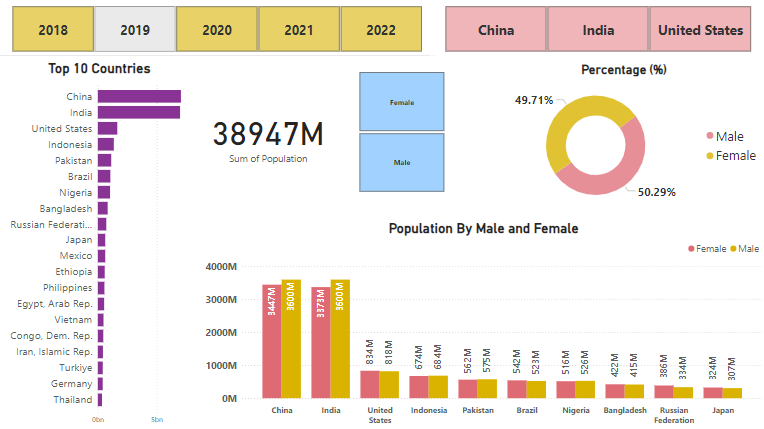

This screenshot's page, from the dashboard's own definition file:
{"tool":"powerbi","page":{"name":"Page 1","canvas":[1280,720],"ordinal":0},"visuals":[{"type":"slicer","fields":{"Values":["Table1.Years"]},"box":[0,0,731.5,96.5],"z":0},{"type":"slicer","fields":{"Values":["Table1.Country Name"]},"box":[721.4,0,558.7,96.5],"z":1000},{"type":"barChart","title":"Top 10 Countries","fields":{"Category":["Table1.Country Name"],"Y":["Sum(Table1.Population)"]},"box":[0,96.5,341.3,623.5],"z":2000},{"type":"clusteredColumnChart","title":"Population By Male and Female ","fields":{"Category":["Table1.Country Name"],"Y":["Sum(Table1.Population)"],"Series":["Table1.Series Code"]},"box":[341.3,360,938.9,360],"z":3000},{"type":"card","fields":{"Values":["Sum(Table1.Population)"]},"box":[319.7,133.9,263.5,191.5],"z":4000},{"type":"slicer","fields":{"Values":["Table1.Series Code"]},"box":[583.2,122.4,181.4,203],"z":5000},{"type":"donutChart","title":"Percentage (%)","fields":{"Category":["Table1.Series Code"],"Y":["Sum(Table1.Population)"]},"box":[810.7,96.5,469.4,263.5],"z":6000}]}

Visuals, with their boxes in screenshot pixels (x1, y1, x2, y2), scaled from the page's 1280x720 canvas onto the 764x429 screenshot:
slicer - Table1.Years: (left=0, top=0, right=437, bottom=57)
slicer - Table1.Country Name: (left=431, top=0, right=763, bottom=57)
"Top 10 Countries" barChart: (left=0, top=57, right=204, bottom=428)
"Population By Male and Female " clusteredColumnChart: (left=204, top=214, right=763, bottom=428)
card - Sum(Table1.Population): (left=191, top=80, right=348, bottom=194)
slicer - Table1.Series Code: (left=348, top=73, right=456, bottom=194)
"Percentage (%)" donutChart: (left=484, top=57, right=763, bottom=214)
